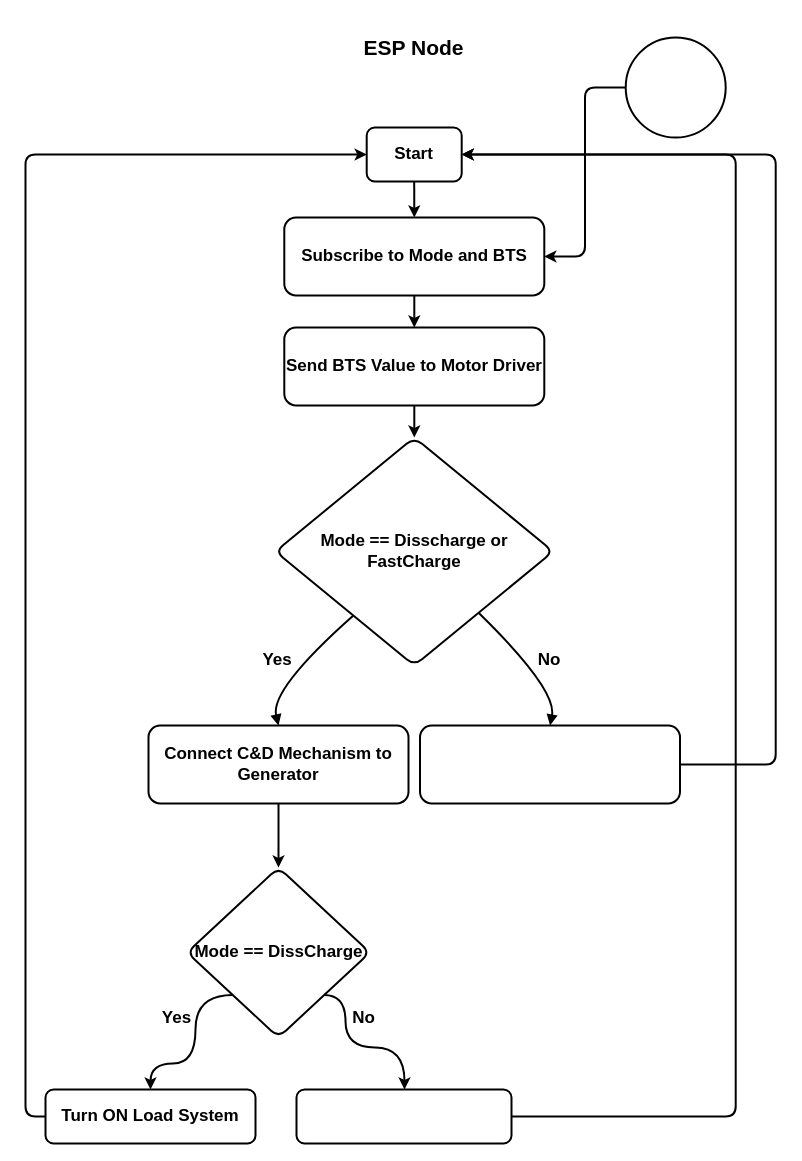
Image size: 802x1161. Some labels were removed from this diagram. Each missing label, with the centre of its shape:
"Connect C&D Mechanism to Gearbox" belongs at pixel 549 764.
"Keep Load System OFF" belongs at pixel 403 1116.
"Python Node" belongs at pixel 675 87.
